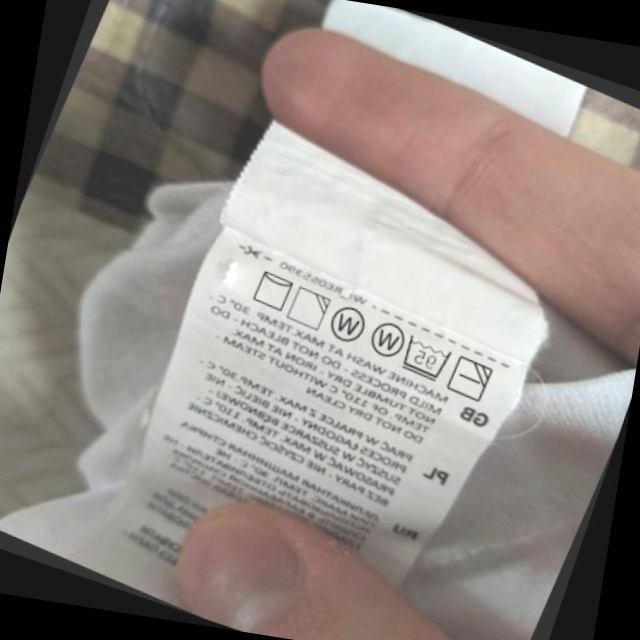95C: (393, 329, 458, 387)
dry_flat_in_shade: (442, 349, 499, 408)
line_dry: (245, 263, 300, 317)
shade_dry: (282, 281, 336, 336)
wet_clean: (321, 298, 374, 352), (361, 311, 413, 365)
